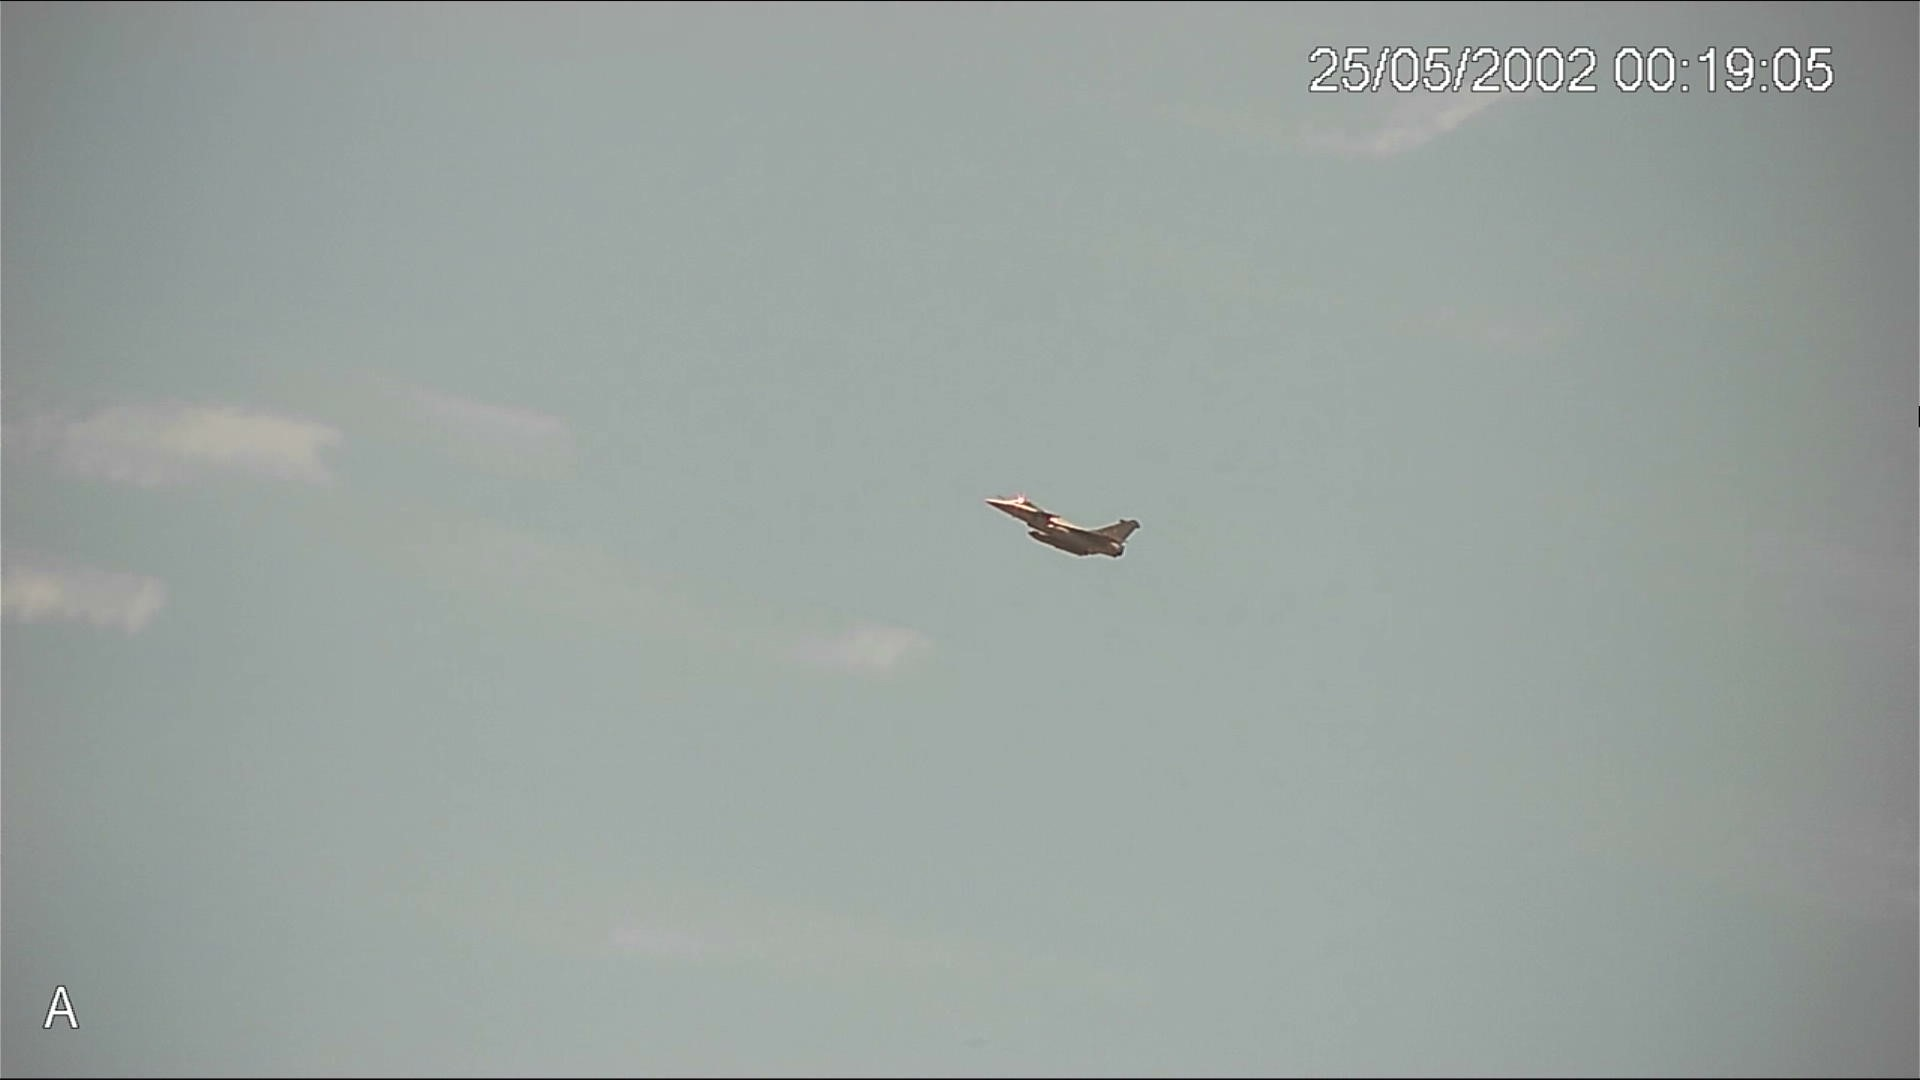SU_30: (980, 479, 1145, 564)
